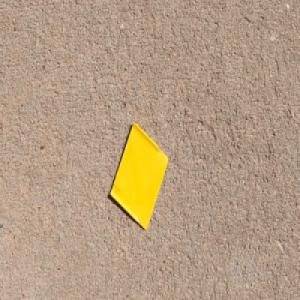PlasticPart: (109, 119, 168, 230)
